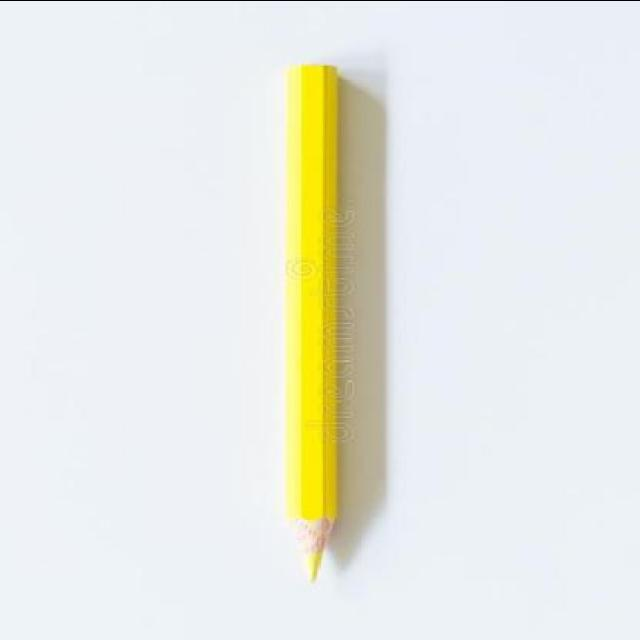pencil: (278, 499, 350, 588)
